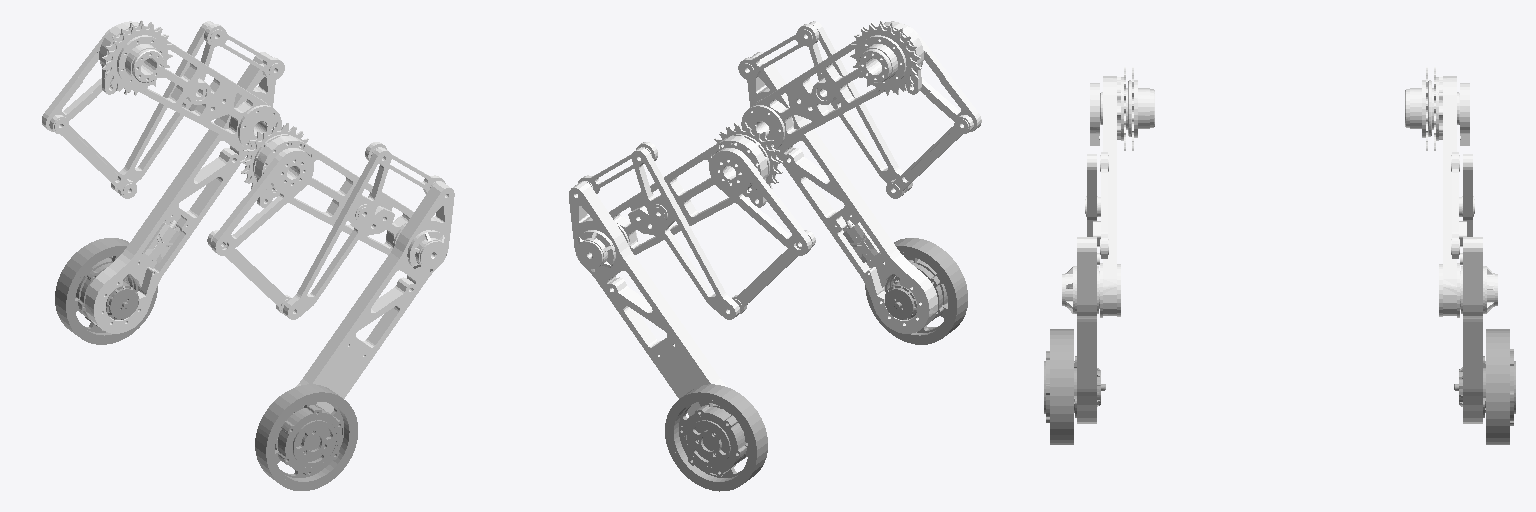
robot.urdf — chuanliantui:
<?xml version="1.0" encoding="utf-8"?>
<!-- 本文件由 SolidWorks 导出版重排而来(任务 T-20260823-01):
     base_link 改为 x前/y左/z上,所有 joint axis 归一为 0 0 1(轴向由 origin rpy 表达),
     与 wl.urdf 同构。运动学与原始导出严格等价:各 link 坐标系仅绕原点旋转,
     limit / effort / velocity / 质量 / 惯量张量 / mesh 引用均未改动。原始导出注释:
     This URDF was automatically created by SolidWorks to URDF Exporter (v1.6.7995.38578). -->
<robot name="chuanliantui">
    <link name="base_link">
        <inertial>
            <origin xyz="0.00602877749963024 -0.000229808244297233 -0.00910941306810902" rpy="1.5707963267948966 0 3.141592653589793" />
            <mass value="9.25503219542145" />
            <inertia ixx="0.0180319947417155" ixy="3.87836365794507E-05" ixz="0.000148435003779885" iyy="0.0417155474811024" iyz="3.81310517235457E-06" izz="0.0362971613813686" />
        </inertial>
        <visual>
            <origin xyz="0 0 0" rpy="1.5707963267948966 0 3.141592653589793" />
            <geometry>
                <mesh filename="../meshes/base_link.STL" />
            </geometry>
            <material name="">
                <color rgba="0.866666666666667 0.909803921568627 1 1" />
            </material>
        </visual>
        <collision>
            <origin xyz="0 0 0" rpy="1.5707963267948966 0 3.141592653589793" />
            <geometry>
                <mesh filename="../meshes/base_link.STL" />
            </geometry>
        </collision>
    </link>
    <link name="rf0">
        <inertial>
            <origin xyz="0.051984 -0.052954 -0.00069153" rpy="1.5707963267948966 0 3.141592653589793" />
            <mass value="1.0986" />
            <inertia ixx="0.0011158" ixy="3.132E-06" ixz="-0.00038066" iyy="0.002379" iyz="2.1688E-06" izz="0.001383" />
        </inertial>
        <visual>
            <origin xyz="0 0 0" rpy="1.5707963267948966 0 3.141592653589793" />
            <geometry>
                <mesh filename="../meshes/rf0.STL" />
            </geometry>
            <material name="">
                <color rgba="1 1 1 1" />
            </material>
        </visual>
        <collision>
            <origin xyz="0 0 0" rpy="1.5707963267948966 0 3.141592653589793" />
            <geometry>
                <mesh filename="../meshes/rf0.STL" />
            </geometry>
        </collision>
    </link>
    <joint name="rf0" type="revolute">
        <origin xyz="0.0114 -0.17693 0.02352" rpy="1.5708 0 0" />
        <parent link="base_link" />
        <child link="rf0" />
        <axis xyz="0 0 1" />
        <!-- DM8009P: 峰值 40 N·m / 24V 空载 160 rpm -->
        <limit lower="-100" upper="100" effort="40" velocity="16.8" />
    </joint>
    <link name="rf1">
        <inertial>
            <origin xyz="-0.0781468381163299 0.0861497864597888 -0.0103199473600937" rpy="-1.5707963267948966 0 3.141592653589793" />
            <mass value="0.414858419056494" />
            <inertia ixx="0.00263411828738831" ixy="-2.34873576369948E-06" ixz="0.00206928433761022" iyy="0.00449630400849374" iyz="3.25463260232106E-06" izz="0.00188913994404996" />
        </inertial>
        <visual>
            <origin xyz="0 0 0" rpy="-1.5707963267948966 0 3.141592653589793" />
            <geometry>
                <mesh filename="../meshes/rf1.STL" />
            </geometry>
            <material name="">
                <color rgba="1 1 1 1" />
            </material>
        </visual>
        <collision>
            <origin xyz="0 0 0" rpy="-1.5707963267948966 0 3.141592653589793" />
            <geometry>
                <mesh filename="../meshes/rf1.STL" />
            </geometry>
        </collision>
    </link>
    <joint name="rf1" type="revolute">
        <origin xyz="0.1651 -0.12977 0.0115" rpy="3.141592653589793 0 0" />
        <parent link="rf0" />
        <child link="rf1" />
        <axis xyz="0 0 1" />
        <!-- DM8009P: 峰值 40 N·m / 24V 空载 160 rpm -->
        <limit lower="-0.12" upper="0.77" effort="40" velocity="16.8" />
    </joint>
    <link name="rfwheel">
        <inertial>
            <origin xyz="-0.000265947124488963 0.000406120388831283 -0.00475914549240664" rpy="-1.5707963267948966 0 3.141592653589793" />
            <mass value="0.344781890891785" />
            <inertia ixx="0.000322531613191001" ixy="-3.23871644327316E-08" ixz="-2.34585830896994E-06" iyy="0.000620367874493321" iyz="8.00535601875778E-08" izz="0.000322776964245954" />
        </inertial>
        <visual>
            <origin xyz="0 0 0" rpy="-1.5707963267948966 0 3.141592653589793" />
            <geometry>
                <mesh filename="../meshes/rfwheel.STL" />
            </geometry>
            <material name="">
                <color rgba="0.752941176470588 0.752941176470588 0.752941176470588 1" />
            </material>
        </visual>
        <collision>
            <origin xyz="0 0 0" rpy="-1.5707963267948966 0 3.141592653589793" />
            <geometry>
                <mesh filename="../meshes/rfwheel.STL" />
            </geometry>
        </collision>
    </link>
    <joint name="rfwheel" type="revolute">
        <origin xyz="-0.1651 0.18773 -0.028" rpy="0 0 0" />
        <parent link="rf1" />
        <child link="rfwheel" />
        <axis xyz="0 0 1" />
        <!-- DJI M3508 改装减速比 16.6:1(标准 P19 19.2:1):堵转 3.9 N·m / 空载 557 rpm;照 wl 不写转角限位 -->
        <limit effort="3.9" velocity="58.4" />
    </joint>
    <link name="lf0">
        <inertial>
            <!-- 原始导出缺失(零质量零惯量),按左右对称件由 rf0 镜像补齐(y 反向:ixy/iyz 变号) -->
            <origin xyz="0.051984 0.052954 -0.00069153" rpy="-1.5707963267948966 0 3.141592653589793" />
            <mass value="1.0986" />
            <inertia ixx="0.0011158" ixy="-3.132E-06" ixz="-0.00038066" iyy="0.002379" iyz="-2.1688E-06" izz="0.001383" />
        </inertial>
        <visual>
            <origin xyz="0 0 0" rpy="-1.5707963267948966 0 3.141592653589793" />
            <geometry>
                <mesh filename="../meshes/lf0.STL" />
            </geometry>
            <material name="">
                <color rgba="1 1 1 1" />
            </material>
        </visual>
        <collision>
            <origin xyz="0 0 0" rpy="-1.5707963267948966 0 3.141592653589793" />
            <geometry>
                <mesh filename="../meshes/lf0.STL" />
            </geometry>
        </collision>
    </link>
    <joint name="lf0" type="revolute">
        <origin xyz="0.0114 0.17857 0.02352" rpy="-1.5707926535897934 0 0" />
        <parent link="base_link" />
        <child link="lf0" />
        <axis xyz="0 0 1" />
        <!-- DM8009P: 峰值 40 N·m / 24V 空载 160 rpm -->
        <limit lower="-100" upper="100" effort="40" velocity="16.8" />
    </joint>
    <link name="lf1">
        <inertial>
            <origin xyz="-0.0781422112156441 -0.0861551316847654 -0.0103199473609227" rpy="1.5707963267948966 0 3.141592653589793" />
            <mass value="0.41485841896248" />
            <inertia ixx="0.00263502302954763" ixy="2.36139743274429E-06" ixz="0.0020692013423577" iyy="0.00449643859324459" iyz="-3.24221462326285E-06" izz="0.00188836978664283" />
        </inertial>
        <visual>
            <origin xyz="0 0 0" rpy="1.5707963267948966 0 3.141592653589793" />
            <geometry>
                <mesh filename="../meshes/lf1.STL" />
            </geometry>
            <material name="">
                <color rgba="1 1 1 1" />
            </material>
        </visual>
        <collision>
            <origin xyz="0 0 0" rpy="1.5707963267948966 0 3.141592653589793" />
            <geometry>
                <mesh filename="../meshes/lf1.STL" />
            </geometry>
        </collision>
    </link>
    <joint name="lf1" type="revolute">
        <origin xyz="0.1651 0.12977 0.0115" rpy="3.141592653589793 0 0" />
        <parent link="lf0" />
        <child link="lf1" />
        <axis xyz="0 0 1" />
        <!-- DM8009P: 峰值 40 N·m / 24V 空载 160 rpm -->
        <limit lower="-0.77" upper="0.12" effort="40" velocity="16.8" />
    </joint>
    <link name="lfwheel">
        <inertial>
            <origin xyz="-0.000400666391112275 0.000274095029669408 0.00475914549166856" rpy="-1.5707963267948966 0 3.141592653589793" />
            <mass value="0.344781890909486" />
            <inertia ixx="0.000322682127933985" ixy="7.93831293033382E-08" ixz="-2.3488987779169E-06" iyy="0.000620367874493372" iyz="-3.39973516878495E-08" izz="0.000322626449503125" />
        </inertial>
        <visual>
            <origin xyz="0 0 0" rpy="-1.5707963267948966 0 3.141592653589793" />
            <geometry>
                <mesh filename="../meshes/lfwheel.STL" />
            </geometry>
            <material name="">
                <color rgba="0.752941176470588 0.752941176470588 0.752941176470588 1" />
            </material>
        </visual>
        <collision>
            <origin xyz="0 0 0" rpy="-1.5707963267948966 0 3.141592653589793" />
            <geometry>
                <mesh filename="../meshes/lfwheel.STL" />
            </geometry>
        </collision>
    </link>
    <joint name="lfwheel" type="revolute">
        <origin xyz="-0.1651 -0.18773 -0.028" rpy="3.141592653589793 0 0" />
        <parent link="lf1" />
        <child link="lfwheel" />
        <axis xyz="0 0 1" />
        <!-- DJI M3508 改装减速比 16.6:1(标准 P19 19.2:1):堵转 3.9 N·m / 空载 557 rpm;照 wl 不写转角限位 -->
        <limit effort="3.9" velocity="58.4" />
    </joint>
</robot>

--- Render facts (derived) ---
3 views of the same robot in one strip: view 1: azimuth 30°, elevation 25°; view 2: azimuth 150°, elevation 25°; view 3: azimuth 270°, elevation 25° (orthographic).
Robot: chuanliantui — 7 links, 6 joints (6 revolute); root link base_link; default pose: every joint at zero.
Visible links, largest first — view 1: rf0, lf0, lf1, rf1, rfwheel, lfwheel; view 2: lf0, rf0, rf1, lf1, lfwheel, rfwheel; view 3: rf0, lf0, rf1, lf1, lfwheel, rfwheel.
Boxes of the visible links, left/top/right/bottom form: rf0: left=207, top=122, right=447, bottom=319; lf0: left=42, top=20, right=284, bottom=198; lf1: left=85, top=52, right=275, bottom=333; rf1: left=296, top=181, right=454, bottom=413; rfwheel: left=255, top=384, right=357, bottom=490; lfwheel: left=55, top=238, right=157, bottom=344; lf0: left=575, top=122, right=815, bottom=319; rf0: left=738, top=21, right=981, bottom=198; rf1: left=747, top=52, right=937, bottom=333; lf1: left=569, top=181, right=746, bottom=460; lfwheel: left=665, top=384, right=767, bottom=491; rfwheel: left=865, top=238, right=967, bottom=344; rf0: left=1062, top=67, right=1154, bottom=317; lf0: left=1405, top=67, right=1497, bottom=317; rf1: left=1077, top=237, right=1096, bottom=423; lf1: left=1463, top=237, right=1482, bottom=423; lfwheel: left=1454, top=329, right=1515, bottom=444; rfwheel: left=1044, top=329, right=1105, bottom=444.
Bounding box of the posed robot: 0.3333 × 0.4865 × 0.4207 m (x, y, z).
Meshes: 7 distinct files referenced, 6 mesh visuals loaded (6 binary STL); not drawn: 1 (reference not matched to a file when rendering).
